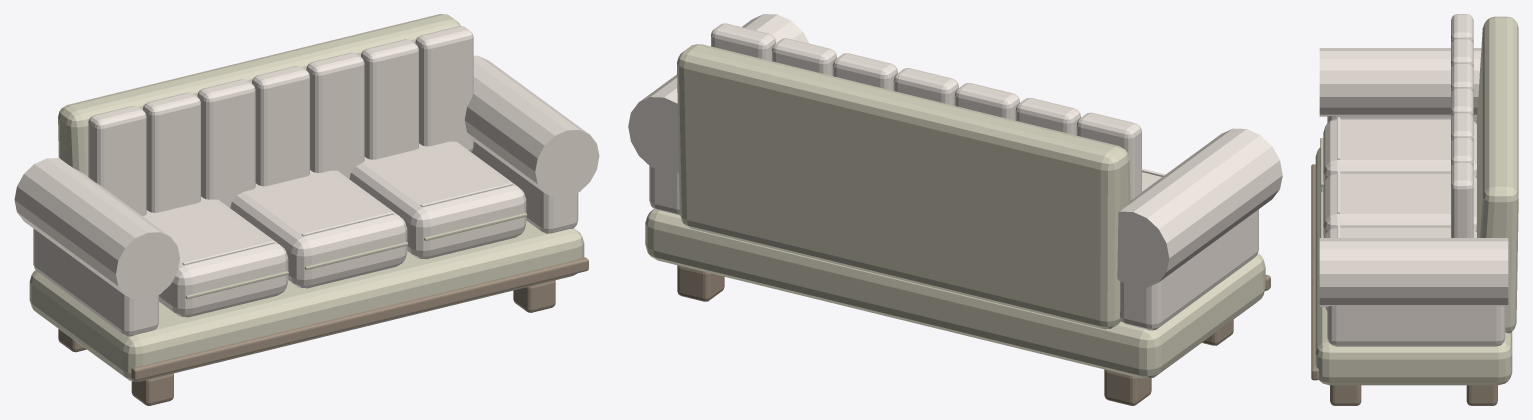
Rendered from couch_03.fbx.
3 renders of one model, left to right at view 1: azimuth 30°, elevation 25°; view 2: azimuth 150°, elevation 25°; view 3: azimuth 270°, elevation 25°, orthographic. The views are drawn at different scales.
Parts seen in each view (by area): view 1: MainBase, LeftRolledArm, SeatCushion_1, SeatCushion_2, RightRolledArm, SeatCushion_0, BackrestBody, LowerFrameTrim, VerticalChannel_2, VerticalChannel_4, VerticalChannel_5, VerticalChannel_1 (+7 smaller); view 2: BackrestBody, MainBase, LeftRolledArm, LeftArmSupport, RightRolledArm, VerticalChannel_0, VerticalChannel_1, VerticalChannel_3, VerticalChannel_4, VerticalChannel_2, VerticalChannel_5, VerticalChannel_6 (+3 smaller); view 3: RightRolledArm, BackrestBody, LeftRolledArm, MainBase, RightArmSupport, SeatCushion_0, SeatCushion_1, VerticalChannel_6, SeatCushion_2, LowerFrameTrim, Leg_1_0, Leg_1_1 (+7 smaller).
Boxes of the visible parts, left/top/right/bottom form: MainBase: left=29, top=220, right=584, bottom=381; LeftRolledArm: left=14, top=158, right=179, bottom=300; SeatCushion_1: left=230, top=170, right=407, bottom=288; SeatCushion_2: left=349, top=141, right=526, bottom=259; RightRolledArm: left=464, top=55, right=599, bottom=197; SeatCushion_0: left=143, top=196, right=288, bottom=317; BackrestBody: left=58, top=14, right=460, bottom=176; LowerFrameTrim: left=131, top=257, right=588, bottom=380; VerticalChannel_2: left=197, top=79, right=255, bottom=207; VerticalChannel_4: left=306, top=52, right=364, bottom=178; VerticalChannel_5: left=361, top=39, right=418, bottom=159; VerticalChannel_1: left=143, top=92, right=200, bottom=212; BackrestBody: left=677, top=44, right=1130, bottom=329; MainBase: left=645, top=209, right=1265, bottom=378; LeftRolledArm: left=1117, top=128, right=1282, bottom=287; LeftArmSupport: left=1120, top=209, right=1258, bottom=330; RightRolledArm: left=628, top=14, right=809, bottom=173; VerticalChannel_0: left=1076, top=112, right=1141, bottom=200; VerticalChannel_1: left=1015, top=97, right=1080, bottom=135; VerticalChannel_3: left=893, top=68, right=958, bottom=105; VerticalChannel_4: left=832, top=53, right=897, bottom=90; VerticalChannel_2: left=954, top=83, right=1019, bottom=120; VerticalChannel_5: left=772, top=38, right=836, bottom=75; VerticalChannel_6: left=711, top=23, right=775, bottom=61; RightRolledArm: left=1319, top=238, right=1508, bottom=306; BackrestBody: left=1476, top=16, right=1518, bottom=333; LeftRolledArm: left=1319, top=48, right=1481, bottom=116; MainBase: left=1315, top=148, right=1512, bottom=385; RightArmSupport: left=1327, top=305, right=1505, bottom=346; SeatCushion_0: left=1323, top=118, right=1476, bottom=184; SeatCushion_1: left=1323, top=172, right=1476, bottom=237; VerticalChannel_6: left=1451, top=162, right=1473, bottom=237; SeatCushion_2: left=1324, top=226, right=1476, bottom=310; LowerFrameTrim: left=1311, top=164, right=1319, bottom=380; Leg_1_0: left=1330, top=385, right=1361, bottom=405; Leg_1_1: left=1466, top=385, right=1497, bottom=405.
Size of the model in its own units: 228 by 105 by 91.1.
